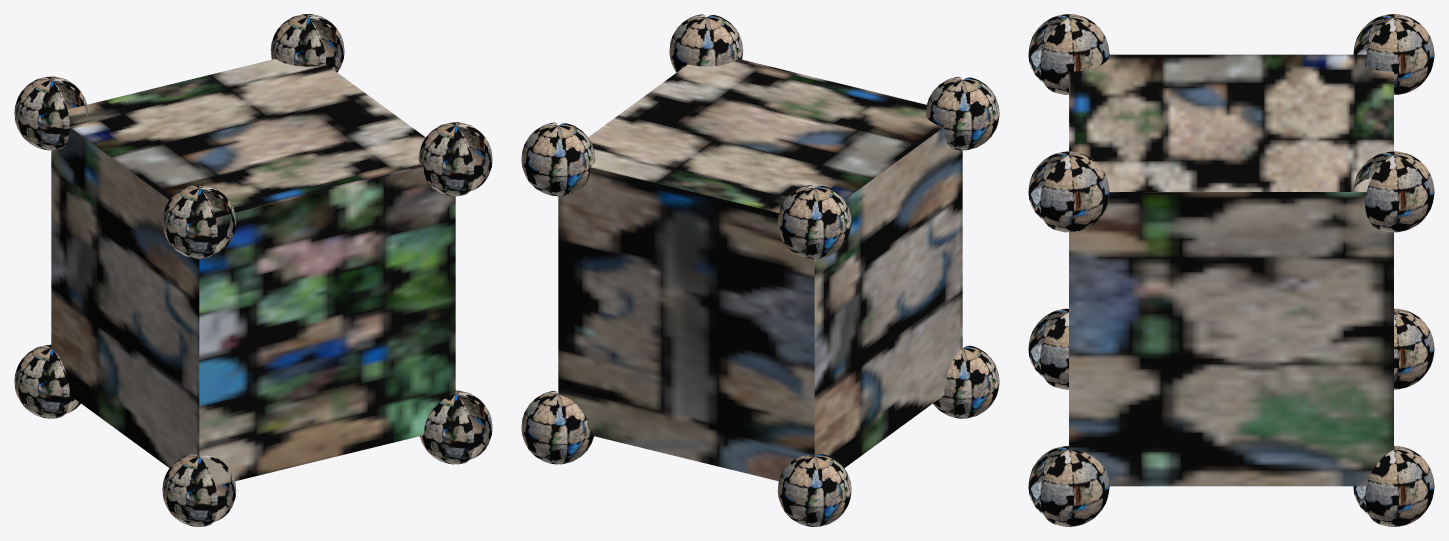
3 views of the same model, side by side, from view 1: azimuth 30°, elevation 25°; view 2: azimuth 150°, elevation 25°; view 3: azimuth 270°, elevation 25° (orthographic). The views are drawn at different scales.
Size of the model in its own units: 1 by 1 by 1.
Materials: 1 (1 with a texture image).
